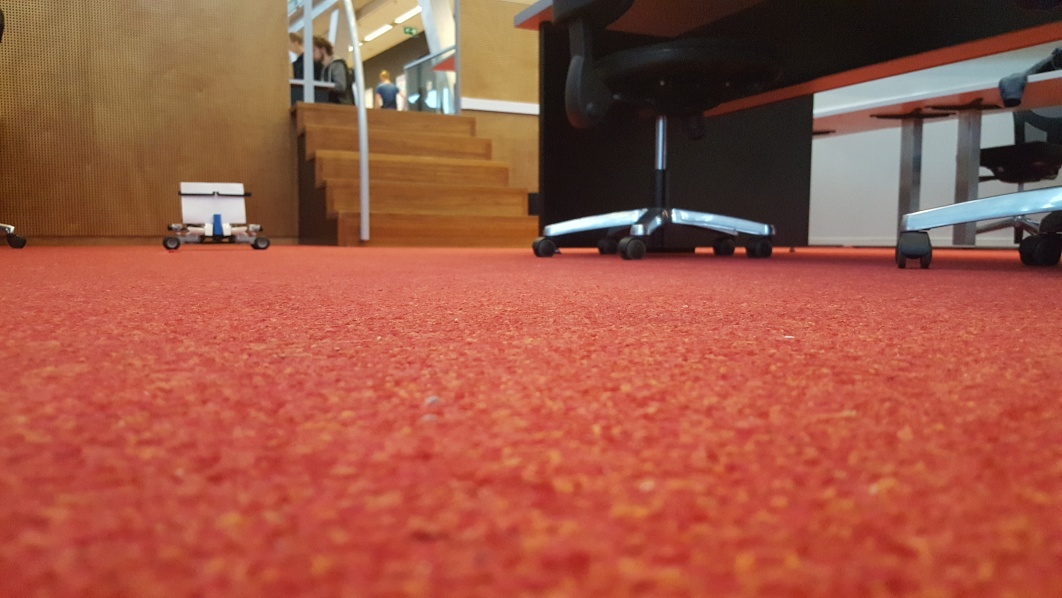car: (162, 178, 273, 256)
